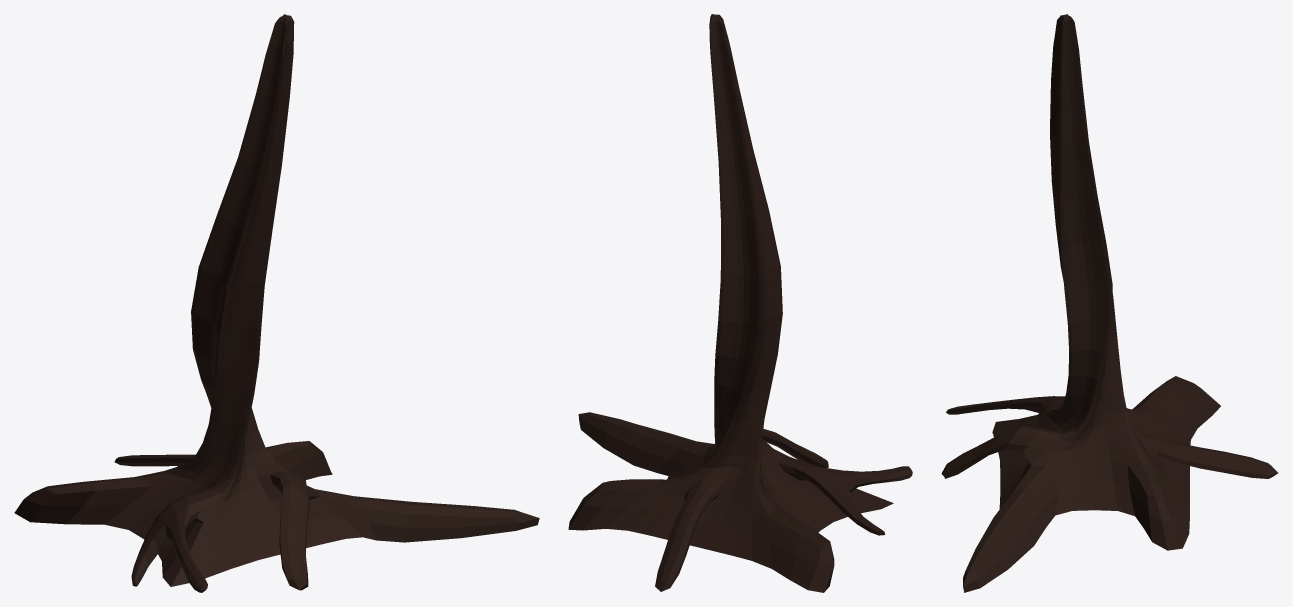
The model's file is Dead_Tree_var1.glb.
3 renders of one model, left to right at view 1: azimuth 30°, elevation 25°; view 2: azimuth 150°, elevation 25°; view 3: azimuth 270°, elevation 25°, orthographic. The views are drawn at different scales.
Visible parts, largest first — view 1: Dead_Tree; view 2: Dead_Tree; view 3: Dead_Tree.
Part boxes in pixels (x1,y1,x2,y2): Dead_Tree: (14, 14, 539, 592); Dead_Tree: (568, 14, 912, 592); Dead_Tree: (941, 14, 1278, 592).
Bounding box in the file's own units: 24.43 × 30.95 × 19.3.
1 material, 1 textured.
